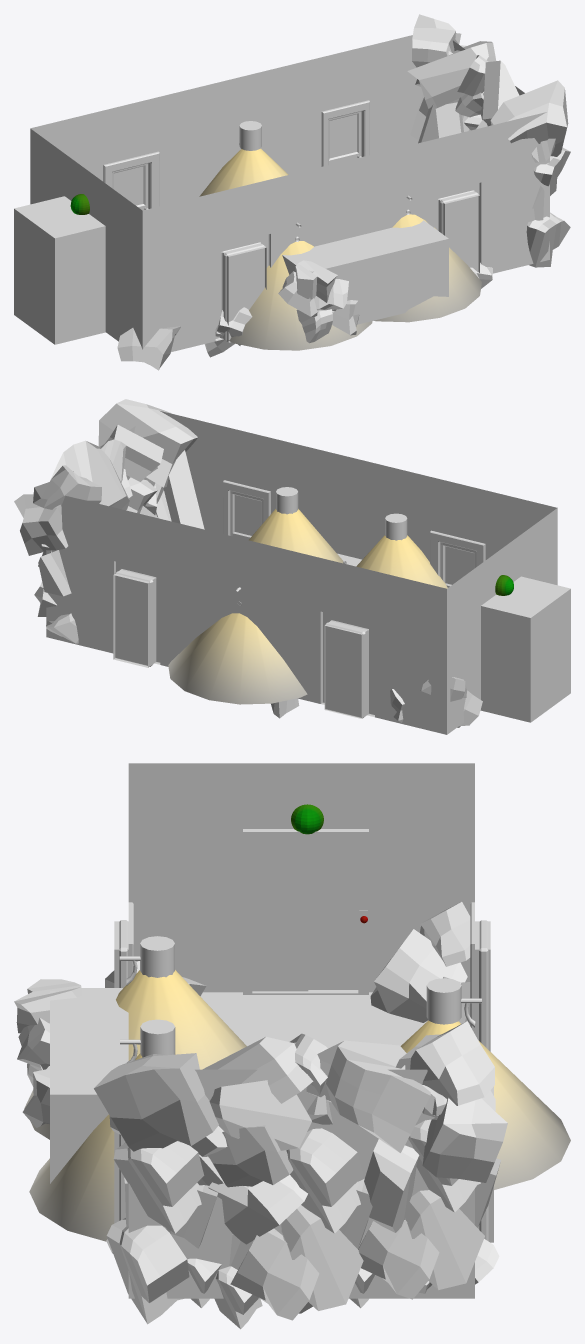
File: piece_entree_Vfini2.fbx
The picture shows the model from 3 angles, top to bottom: view 1: azimuth 30°, elevation 25°; view 2: azimuth 150°, elevation 25°; view 3: azimuth 270°, elevation 25°; orthographic projection. The views are drawn at different scales.
Parts seen in each view (by area): view 1: piece, debris.054, asenseur, Cylinder, Cylinder.001, porte.002, porte.003, Cylinder.002, porte, porte.001, poutre, lampe.001; view 2: piece, debris.054, asenseur, Cylinder.002, porte.001, porte, Cylinder.001, Cylinder, poutre, porte.003, porte.002, lampe.004 (+1 smaller); view 3: debris.054, piece, porte2, porte1, Cylinder.002, Cylinder, Cylinder.001, asenseur, lampe.001, lampe.005, lampe.004, porte.001 (+1 smaller).
Part boxes in pixels (bbox=[...]): piece: bbox=[30, 35, 549, 351]; debris.054: bbox=[117, 14, 570, 370]; asenseur: bbox=[14, 196, 105, 344]; Cylinder: bbox=[229, 241, 372, 350]; Cylinder.001: bbox=[374, 214, 481, 322]; porte.002: bbox=[223, 244, 265, 341]; porte.003: bbox=[440, 191, 478, 271]; Cylinder.002: bbox=[199, 148, 288, 196]; porte: bbox=[329, 111, 361, 164]; porte.001: bbox=[112, 163, 148, 210]; poutre: bbox=[418, 98, 463, 143]; lampe.001: bbox=[239, 121, 261, 150]; piece: bbox=[46, 411, 557, 734]; debris.054: bbox=[14, 399, 482, 727]; asenseur: bbox=[480, 576, 570, 722]; Cylinder.002: bbox=[168, 613, 307, 704]; porte.001: bbox=[325, 622, 365, 717]; porte: bbox=[115, 571, 153, 666]; Cylinder.001: bbox=[249, 509, 343, 563]; Cylinder: bbox=[356, 535, 447, 588]; poutre: bbox=[163, 450, 204, 529]; porte.003: bbox=[230, 491, 263, 540]; porte.002: bbox=[440, 542, 476, 587]; lampe.004: bbox=[276, 487, 298, 514]; debris.054: bbox=[14, 902, 507, 1329]; piece: bbox=[50, 763, 493, 1298]; porte2: bbox=[252, 839, 308, 991]; porte1: bbox=[308, 839, 358, 989]; Cylinder.002: bbox=[400, 1020, 570, 1189]; Cylinder: bbox=[24, 970, 246, 1139]; Cylinder.001: bbox=[29, 1053, 175, 1241]; asenseur: bbox=[243, 829, 368, 994]; lampe.001: bbox=[426, 978, 481, 1027]; lampe.005: bbox=[119, 936, 174, 985]; lampe.004: bbox=[120, 1019, 175, 1062]; porte.001: bbox=[479, 920, 488, 1049].
Size of the model in its own units: 5047 by 1917 by 3188.
